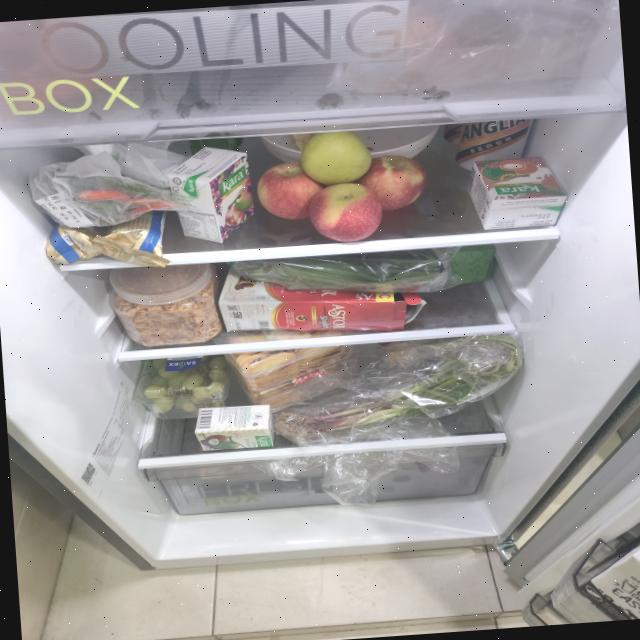apple: (253, 124, 430, 248)
chili: (74, 174, 176, 222)
coconut_milk: (164, 143, 257, 246), (464, 154, 570, 231), (192, 402, 276, 452)
grape: (140, 353, 229, 416)
leafy_greens: (240, 246, 450, 305)
spring_onion: (270, 332, 530, 441)
